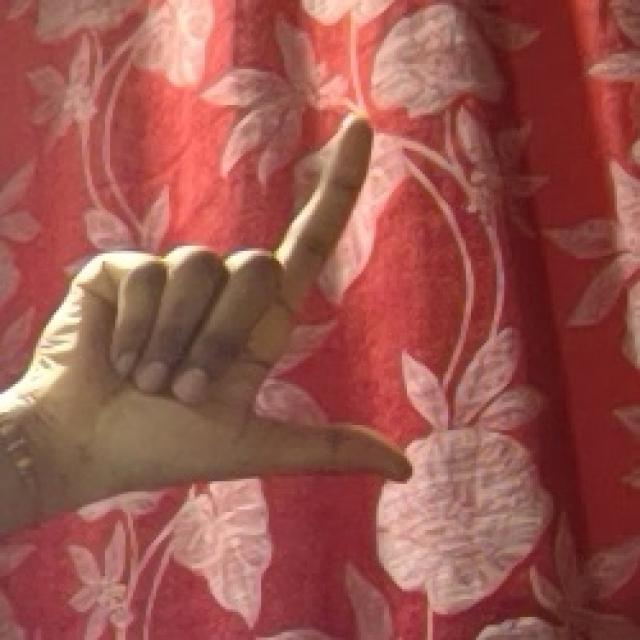Alphabet-L: (36, 92, 413, 513)
